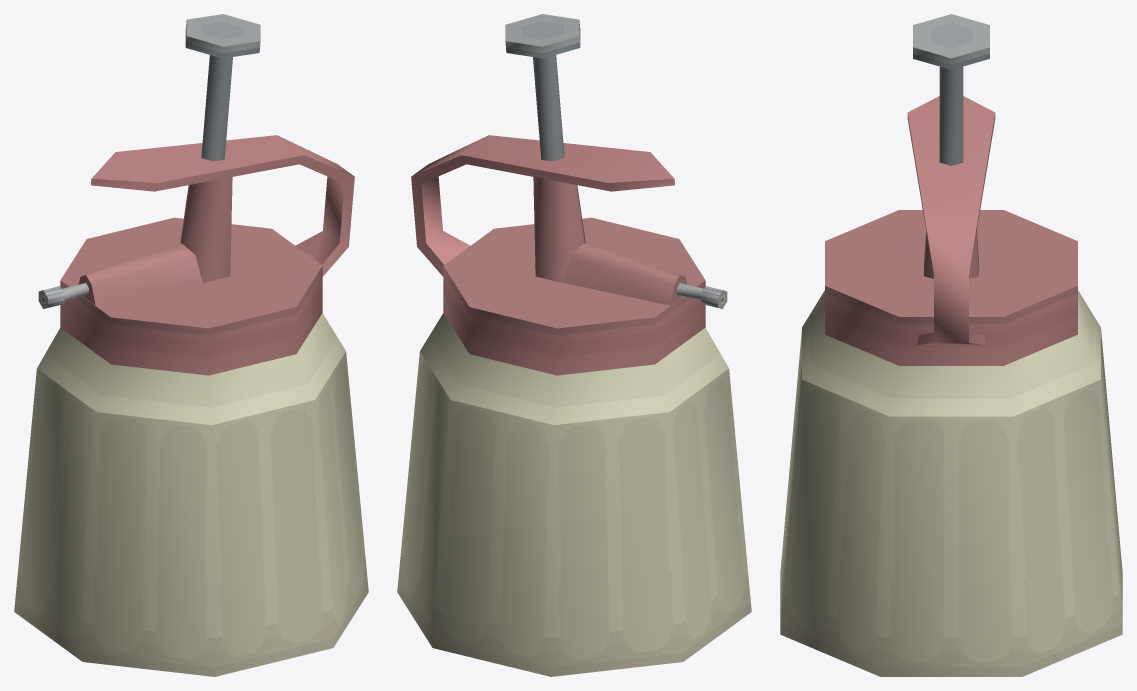
The model's file is 0476_Sprayer.glb.
3 renders of one model, left to right at view 1: azimuth 30°, elevation 25°; view 2: azimuth 150°, elevation 25°; view 3: azimuth 270°, elevation 25°, orthographic. The views are drawn at different scales.
Parts seen in each view (by area): view 1: part_0; view 2: part_0; view 3: part_0.
Boxes of the visible parts, x1,y1,x2,y2 form: part_0: (14, 14, 368, 676); part_0: (397, 14, 751, 676); part_0: (780, 14, 1122, 676).
Size of the model in its own units: 0.0856 by 0.153 by 0.0808.
1 material, 1 textured.
